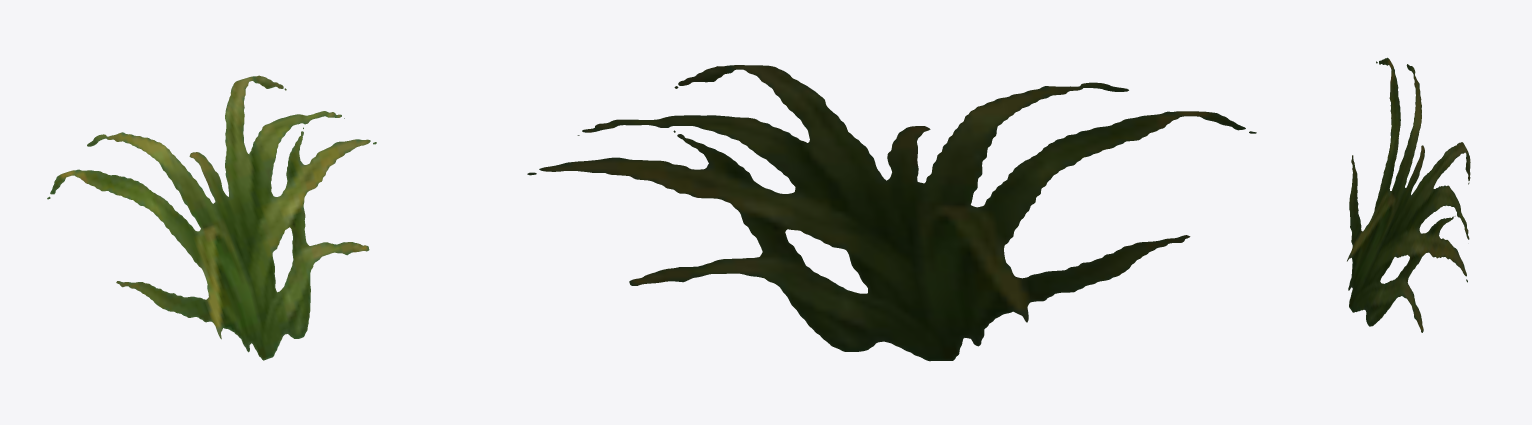
File: zhiwu_14.FBX
3 views of the same model, side by side, from view 1: azimuth 30°, elevation 25°; view 2: azimuth 150°, elevation 25°; view 3: azimuth 270°, elevation 25° (orthographic). The views are drawn at different scales.
Parts seen in each view (by area): view 1: zhiwu_14; view 2: zhiwu_14; view 3: zhiwu_14.
Part boxes in pixels (left/top/right/bottom): zhiwu_14: left=47, top=75, right=376, bottom=360; zhiwu_14: left=527, top=65, right=1256, bottom=361; zhiwu_14: left=1347, top=57, right=1470, bottom=332.
Size of the model in its own units: 96.22 by 60.17 by 48.09.
